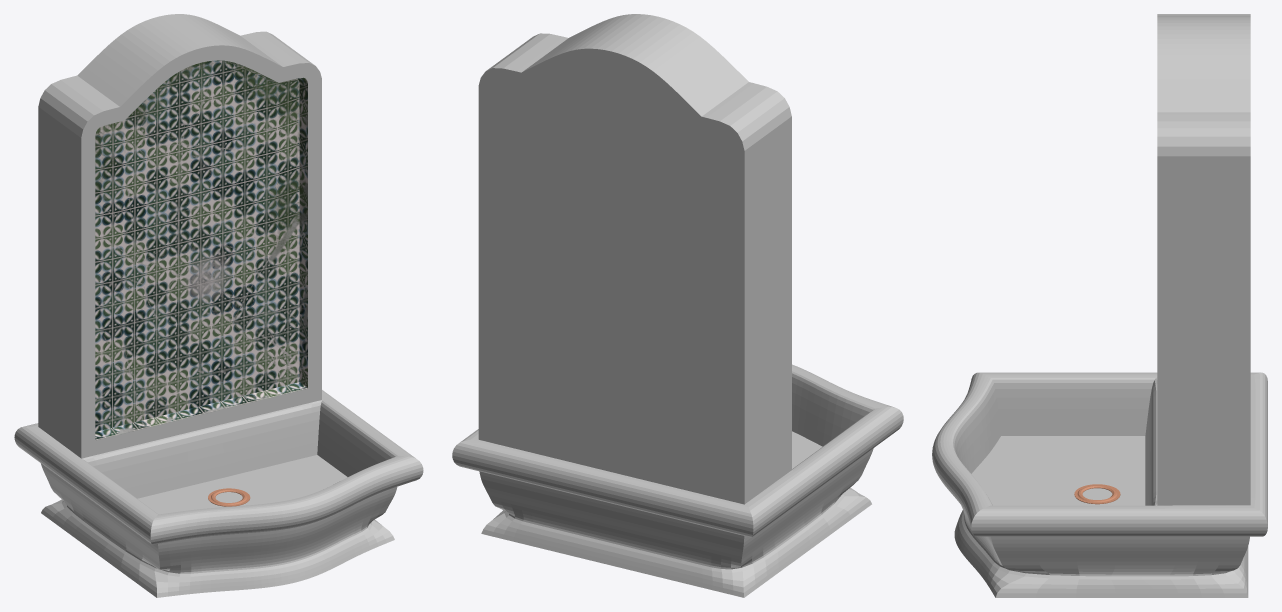
File: Fountain.fbx
3 views of the same model, side by side, from view 1: azimuth 30°, elevation 25°; view 2: azimuth 150°, elevation 25°; view 3: azimuth 270°, elevation 25° (orthographic). The views are drawn at different scales.
Parts seen in each view (by area): view 1: Garden Water Faucet; view 2: Garden Water Faucet; view 3: Garden Water Faucet.
Boxes of the visible parts, box(x1,y1,x2,y2) form: Garden Water Faucet: box(14, 14, 423, 597); Garden Water Faucet: box(452, 14, 903, 597); Garden Water Faucet: box(932, 14, 1267, 597).
Size of the model in its own units: 333 by 544 by 326.
